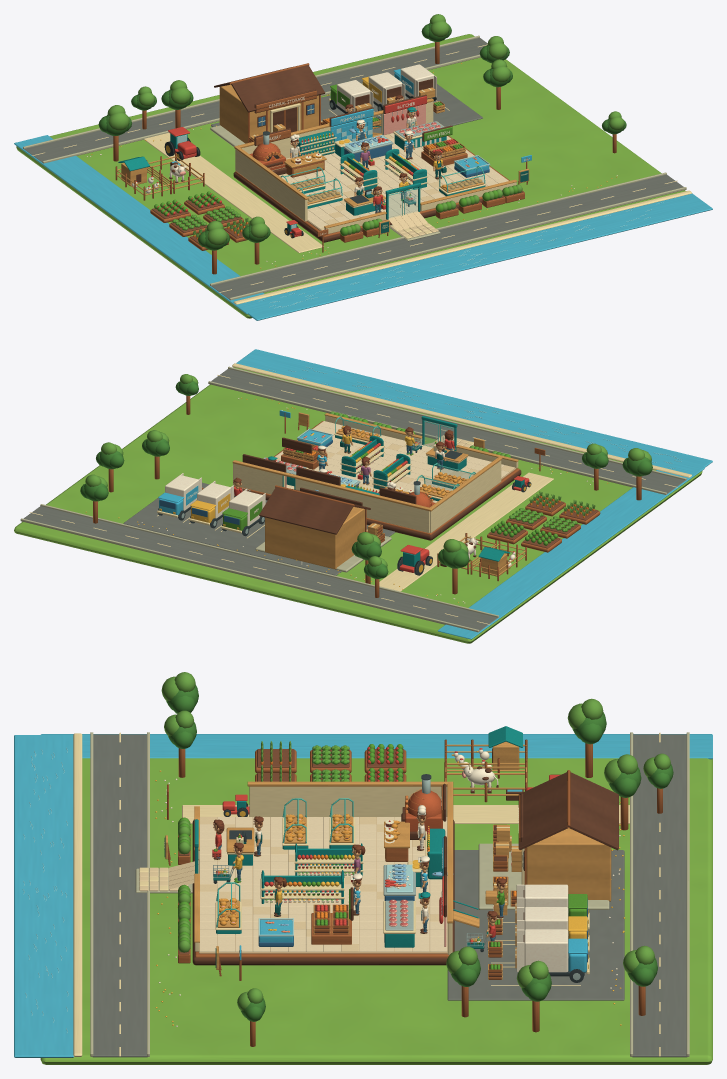
The model's file is MarketWorld.fbx.
3 renders of one model, top to bottom at view 1: azimuth 30°, elevation 25°; view 2: azimuth 150°, elevation 25°; view 3: azimuth 270°, elevation 25°, orthographic. The views are drawn at different scales.
Visible parts, largest first — view 1: Environment, Building, Warehouse, Farm, Sector_peixaria, Groceries, Sector_acougue, Sector_padaria, Bakery, Anim_Truck_5, Anim_Truck_11, Anim_Truck_8 (+3 smaller); view 2: Environment, Building, Warehouse, Farm, Groceries, Anim_Truck_5, Bakery, Anim_Truck_11, Anim_Truck_8, Sector_peixaria, Produce, Anim_Tractor (+3 smaller); view 3: Environment, Building, Warehouse, Farm, Groceries, Anim_Truck_11, Sector_padaria, Sector_peixaria, Bakery, Sector_acougue, Anim_Truck_5, Anim_Truck_8 (+3 smaller).
Part boxes in pixels (x1,y1,x2,y2): Environment: (14,14,712,320); Building: (233,98,524,242); Warehouse: (210,63,335,146); Farm: (115,152,303,250); Sector_peixaria: (329,107,490,177); Groceries: (296,130,428,190); Sector_acougue: (383,94,446,149); Sector_padaria: (249,128,326,177); Bakery: (254,144,485,208); Anim_Truck_5: (328,80,373,113); Anim_Truck_11: (393,64,436,100); Anim_Truck_8: (362,72,405,111); Environment: (14,349,712,643); Building: (232,411,521,540); Warehouse: (255,485,391,572); Farm: (437,476,600,581); Groceries: (340,436,411,495); Anim_Truck_5: (221,488,265,536); Bakery: (334,416,475,503); Anim_Truck_11: (157,473,201,520); Anim_Truck_8: (189,481,233,528); Sector_peixaria: (296,428,360,491); Produce: (281,437,327,469); Anim_Tractor: (397,545,432,575); Environment: (14,672,712,1064); Building: (135,781,479,965); Warehouse: (478,770,618,915); Farm: (222,726,527,816); Groceries: (260,828,445,903); Anim_Truck_11: (515,929,589,982); Sector_padaria: (384,774,446,861); Sector_peixaria: (258,836,453,946); Bakery: (215,789,424,934); Sector_acougue: (383,874,446,947); Anim_Truck_5: (515,884,589,929); Anim_Truck_8: (515,907,589,951).
Size of the model in its own units: 43.25 by 5.76 by 39.5.
